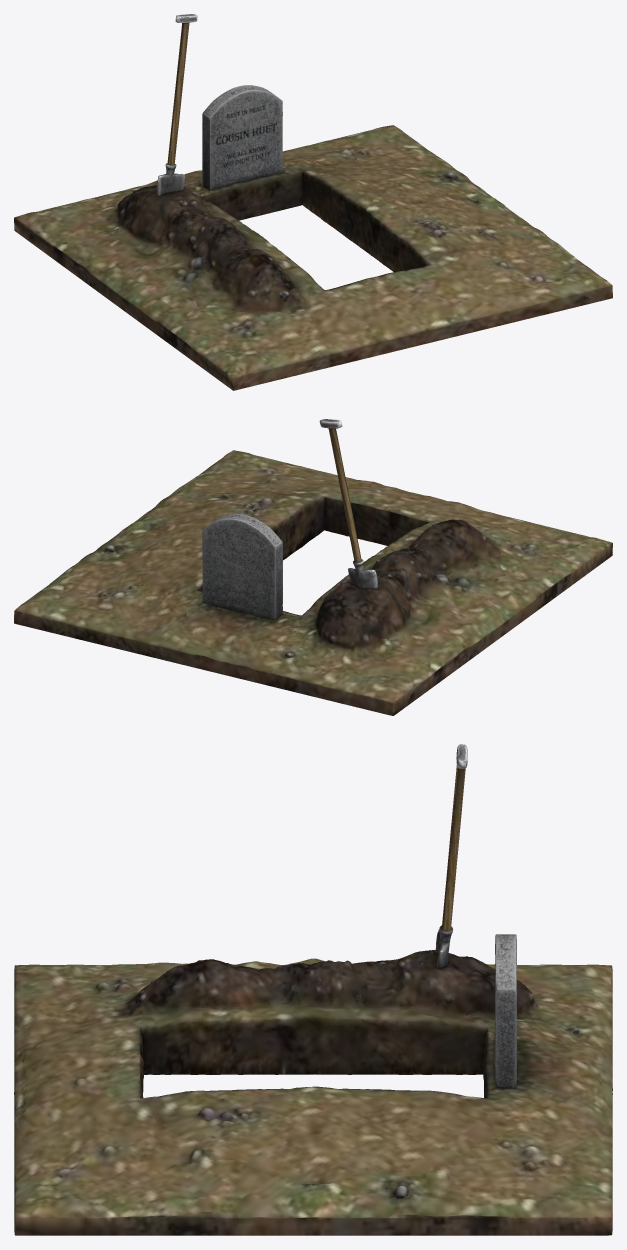
File: MZ4250 - Open Grave Site_old.glb
3 renders of one model, top to bottom at view 1: azimuth 30°, elevation 25°; view 2: azimuth 150°, elevation 25°; view 3: azimuth 270°, elevation 25°, orthographic. The views are drawn at different scales.
Visible parts, largest first — view 1: Stuff.002; view 2: Stuff.002; view 3: Stuff.002.
Boxes of the visible parts, <box> form: Stuff.002: <box>14,14,612,390</box>; Stuff.002: <box>14,419,612,715</box>; Stuff.002: <box>14,744,612,1235</box>.
Size of the model in its own units: 123 by 70.03 by 122.
Materials: 2 (2 with a texture image).
